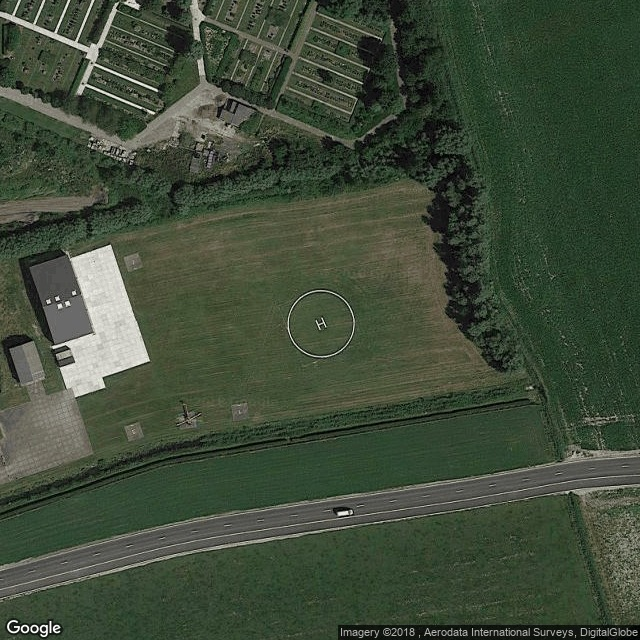heliport: (312, 312, 327, 331)
